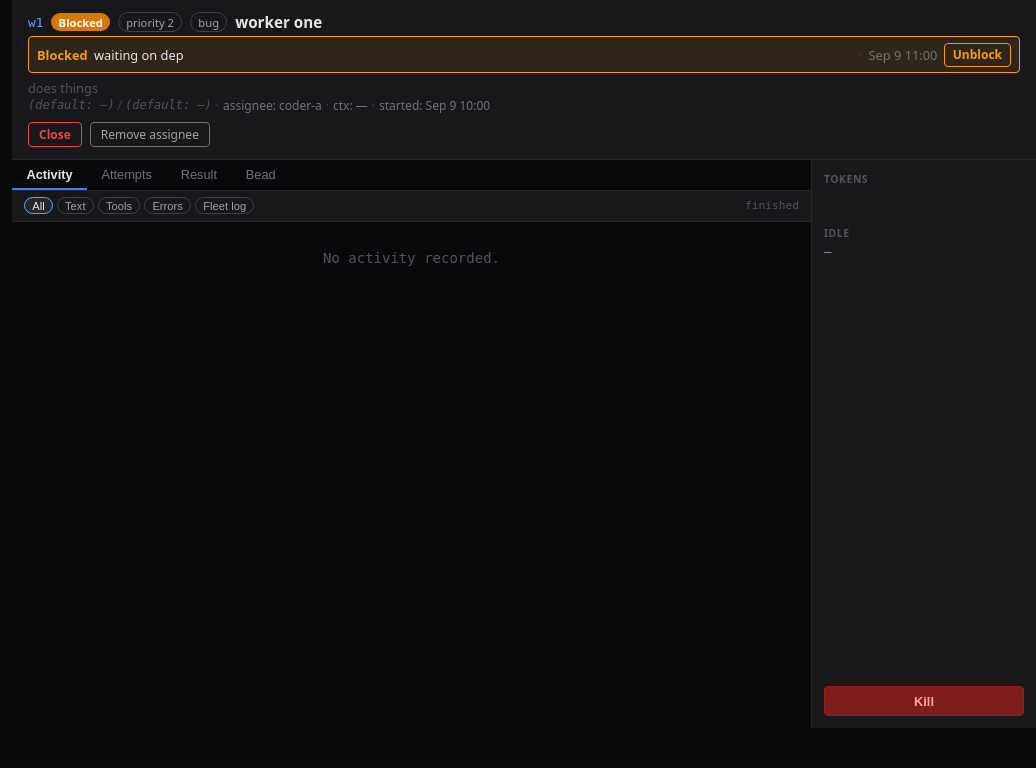
Scenario: TaskDetailPage tabs (ADR 0017) › Bead tab shows dependencies, comments and the raw payload with a copy button
The image size is (1036, 768).
Expected: the text "worker one" is shown, [235,12,322,32]
Click the tab "Bead": (261, 175) [231,160,290,190]
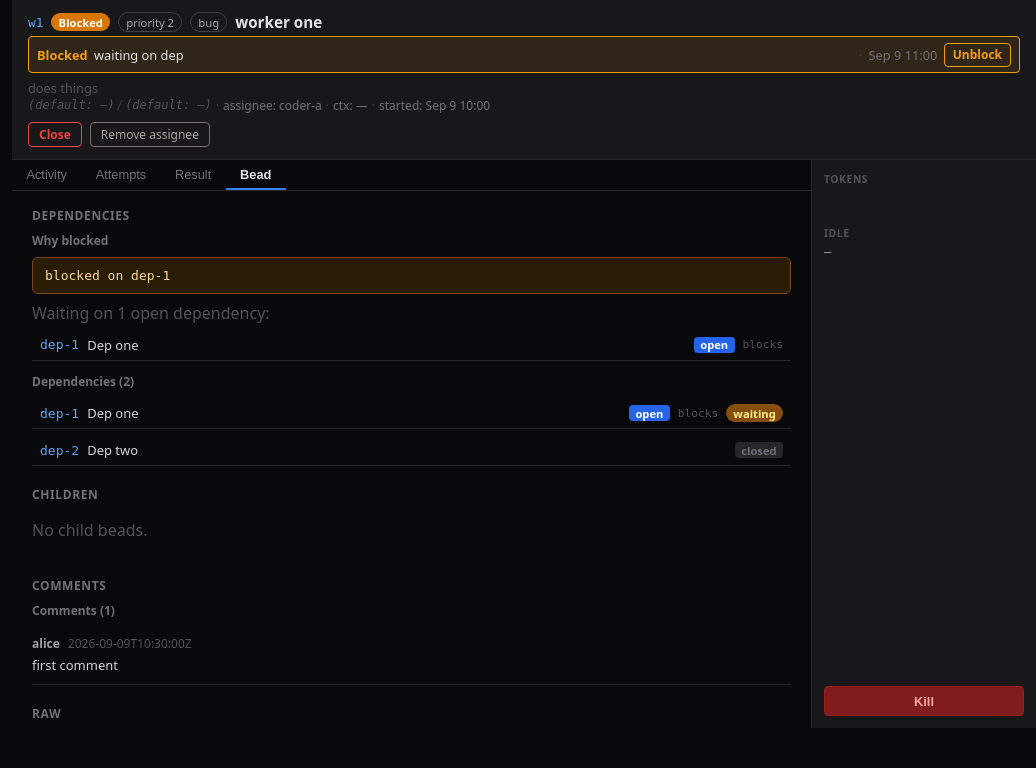
Result: the heading "Dependencies" is shown at [32,207,130,224]
Result: the text "blocked on dep-1" is shown at [32,257,791,294]
Result: the text "first comment" is shown at [32,656,118,674]
